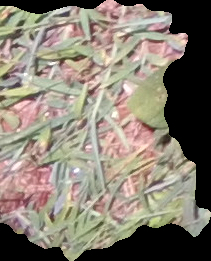grass: (1, 1, 209, 260)
